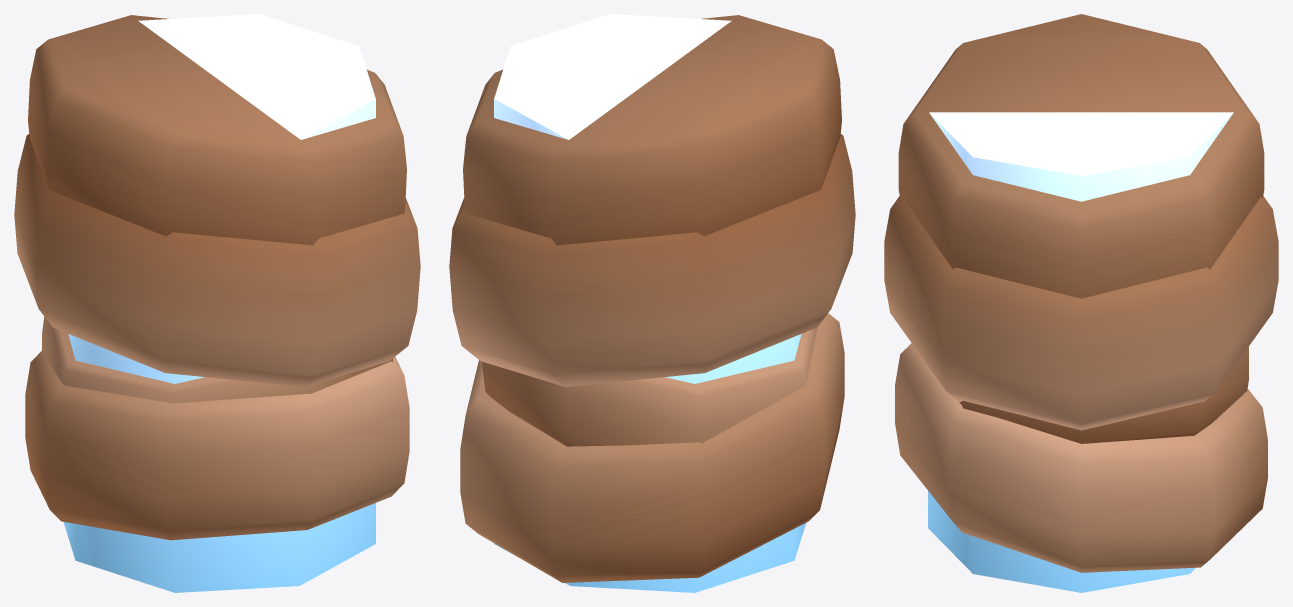
File: steel_grip_024.glb
3 views of the same model, side by side, from view 1: azimuth 30°, elevation 25°; view 2: azimuth 150°, elevation 25°; view 3: azimuth 270°, elevation 25° (orthographic). The views are drawn at different scales.
Parts seen in each view (by area): view 1: steel_grip_024; view 2: steel_grip_024; view 3: steel_grip_024.
Boxes of the visible parts, x1,y1,x2,y2 form: steel_grip_024: (14, 14, 420, 592); steel_grip_024: (449, 14, 855, 592); steel_grip_024: (884, 14, 1278, 592).
Bounding box in the file's own units: 2.55 × 3.2 × 2.57.
Materials: 1 (1 with a texture image).
